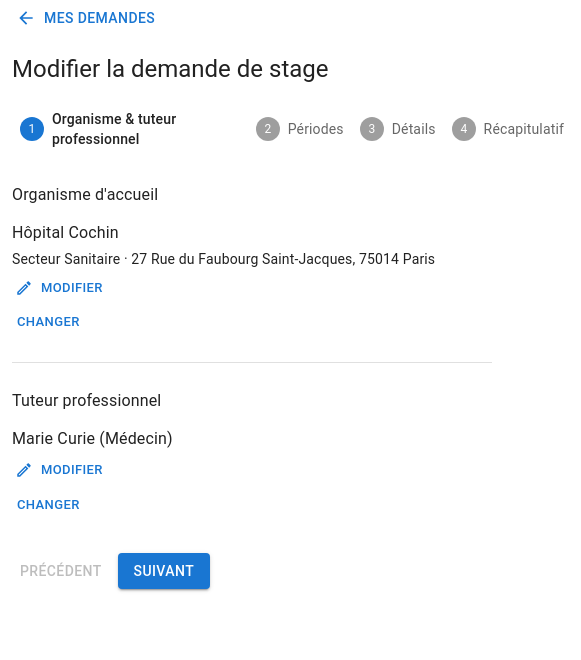
Test case: EditStagePage (issue #116) › pre-fill › pre-fills the details and the mandatory choice
The width and height of the screenshot is (581, 660).
Expected: the text "Hôpital Cochin" is shown, [12,222,119,242]
Step 1. Click the button "Suivant" → {"x": 164, "y": 571}, box [118,553,210,589]
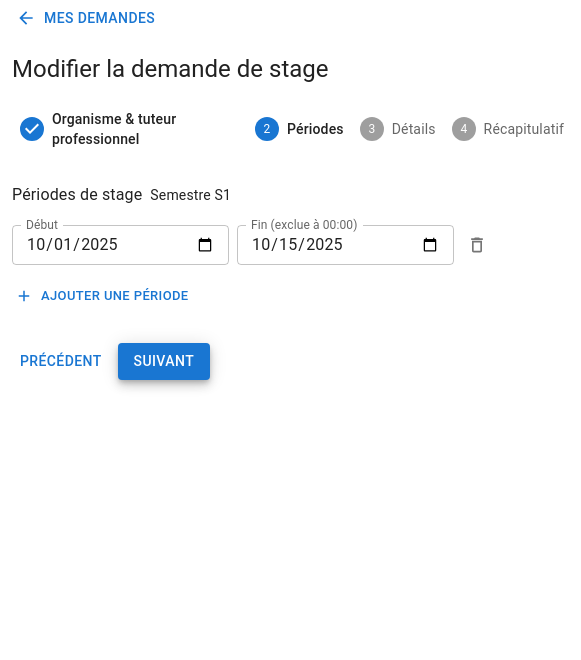
Step 2. Click the button "Suivant" → {"x": 164, "y": 362}, box [118,343,210,380]
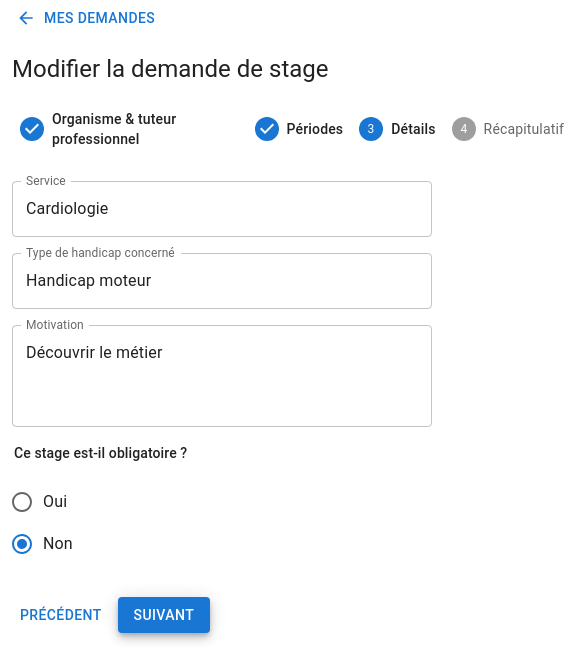
Result: the field labelled "Service" holds "Cardiologie" at [12,180,432,236]
Result: the field labelled "Type de handicap concerné" holds "Handicap moteur" at [12,252,432,308]
Result: the text box labelled "Motivation" holds "Découvrir le métier" at [26,341,418,410]
